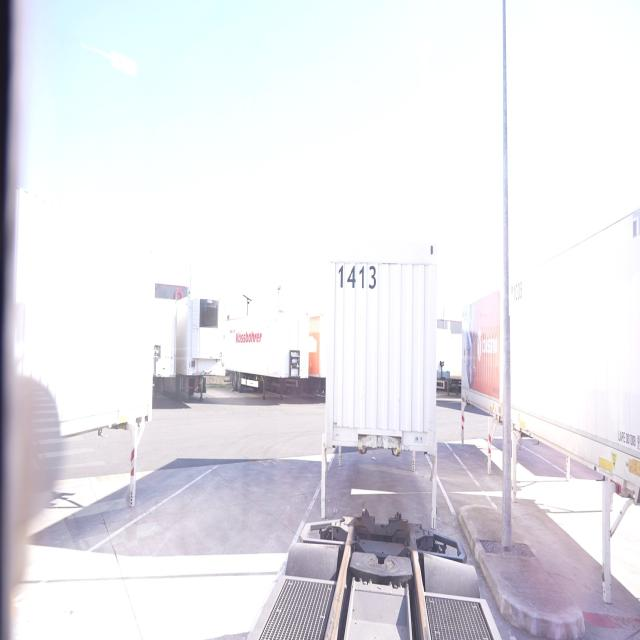Code: (336, 258, 378, 298)
